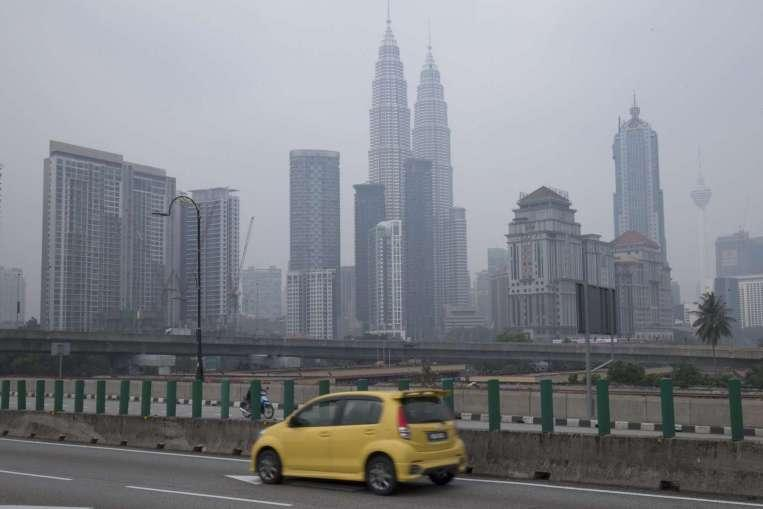bus: (164, 327, 192, 340)
car: (249, 384, 468, 498)
motorbike: (239, 385, 275, 420)
